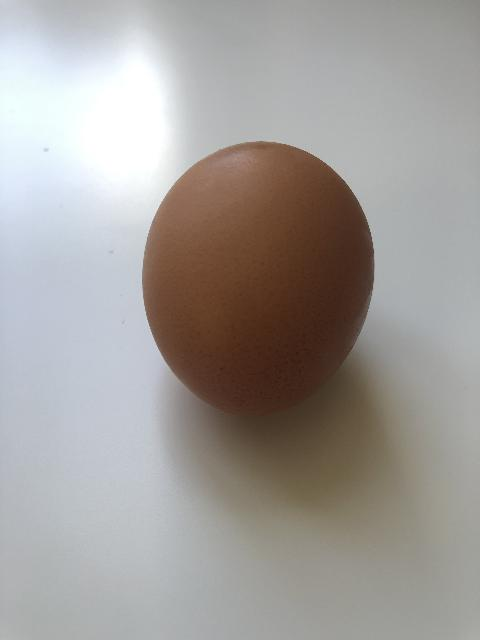Sano: (141, 139, 376, 418)
